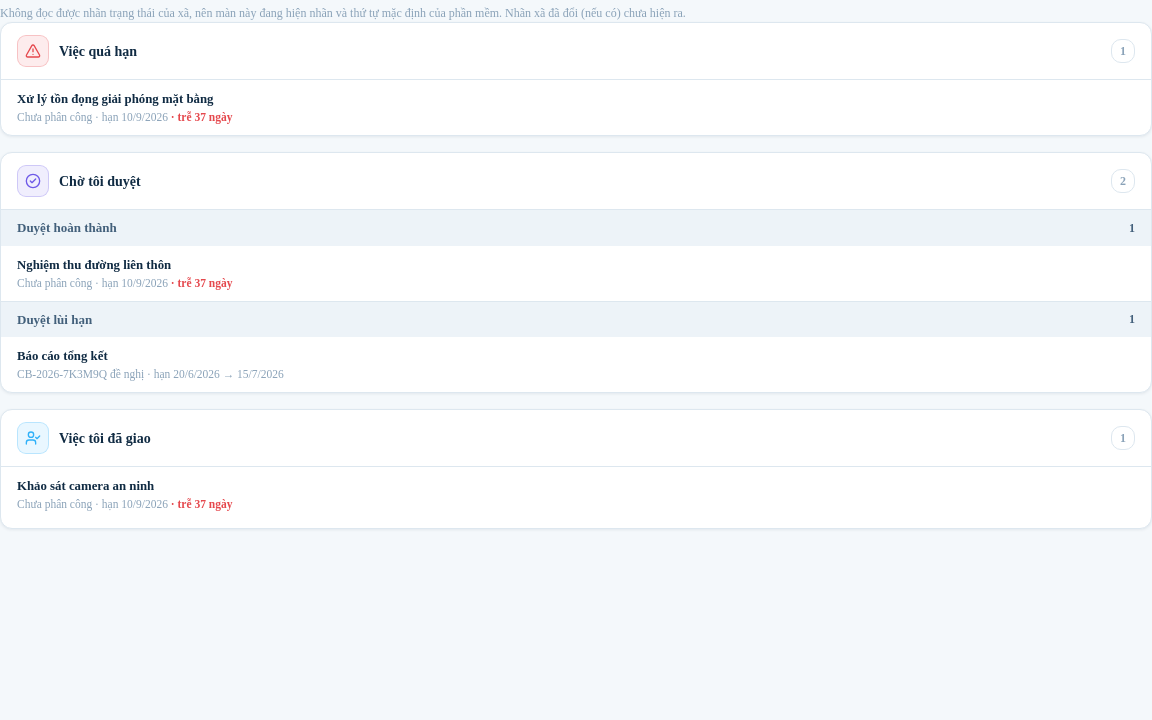
Test case: a row opens the register's drawer HERE (owner 09/10/2026) › click → the detail dialog on this page; the address bar is not touched
The width and height of the screenshot is (1152, 720).
Click the button that starts with "Xử lý tồn đọng giải phóng mặt bằng" at (115, 99), box x1=1 y1=80 x2=1151 y2=135
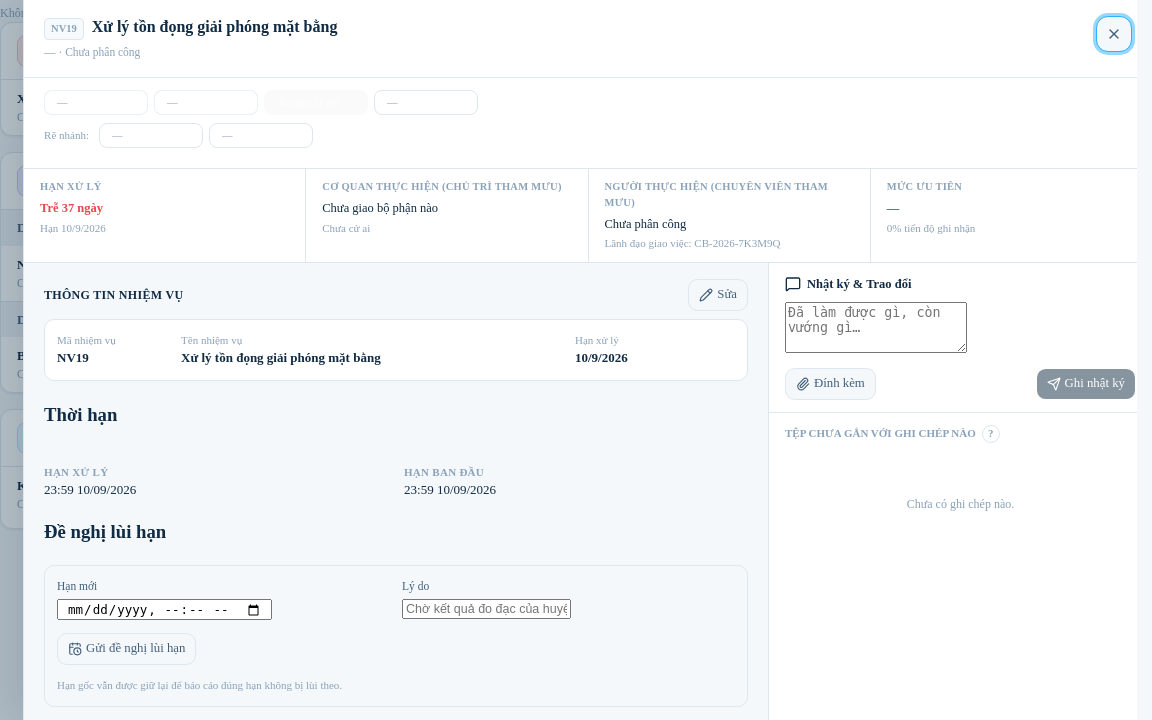
Expected: the dialog is shown
Expected: the heading "Xử lý tồn đọng giải phóng mặt bằng" is shown, x1=92 y1=16 x2=337 y2=38
Expected: the header shows "NV19", x1=51 y1=23 x2=77 y2=34
